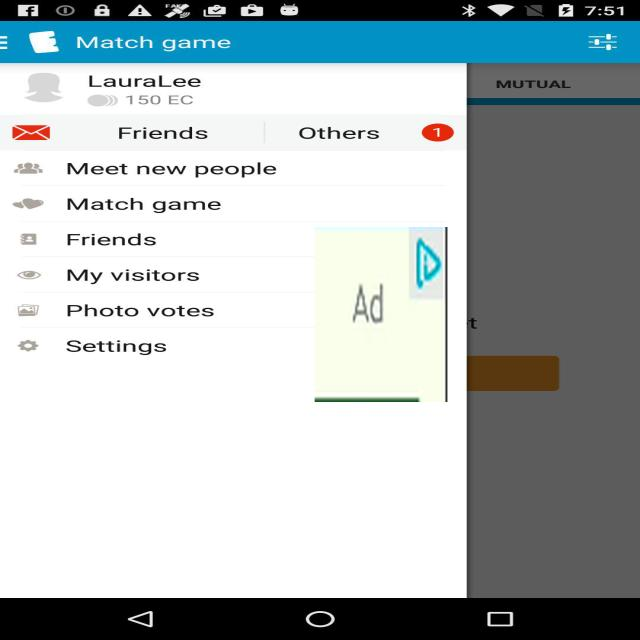sneaking: (315, 227, 447, 402)
